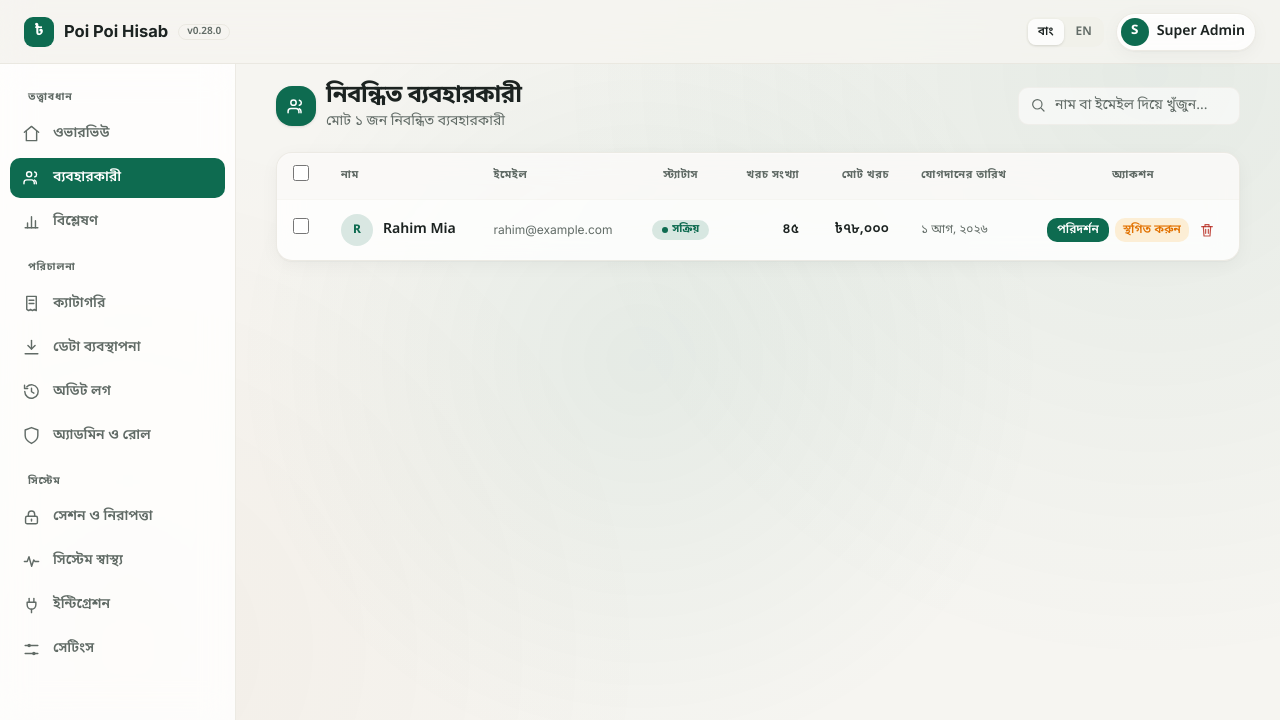
/admin/users › permanently deletes a user behind a confirmation
The image size is (1280, 720).
Check: the link "Rahim Mia" is shown, box x1=383 y1=220 x2=456 y2=240
Click the button named "মুছুন — Rahim Mia": click(1207, 230) x1=1195 y1=218 x2=1219 y2=242
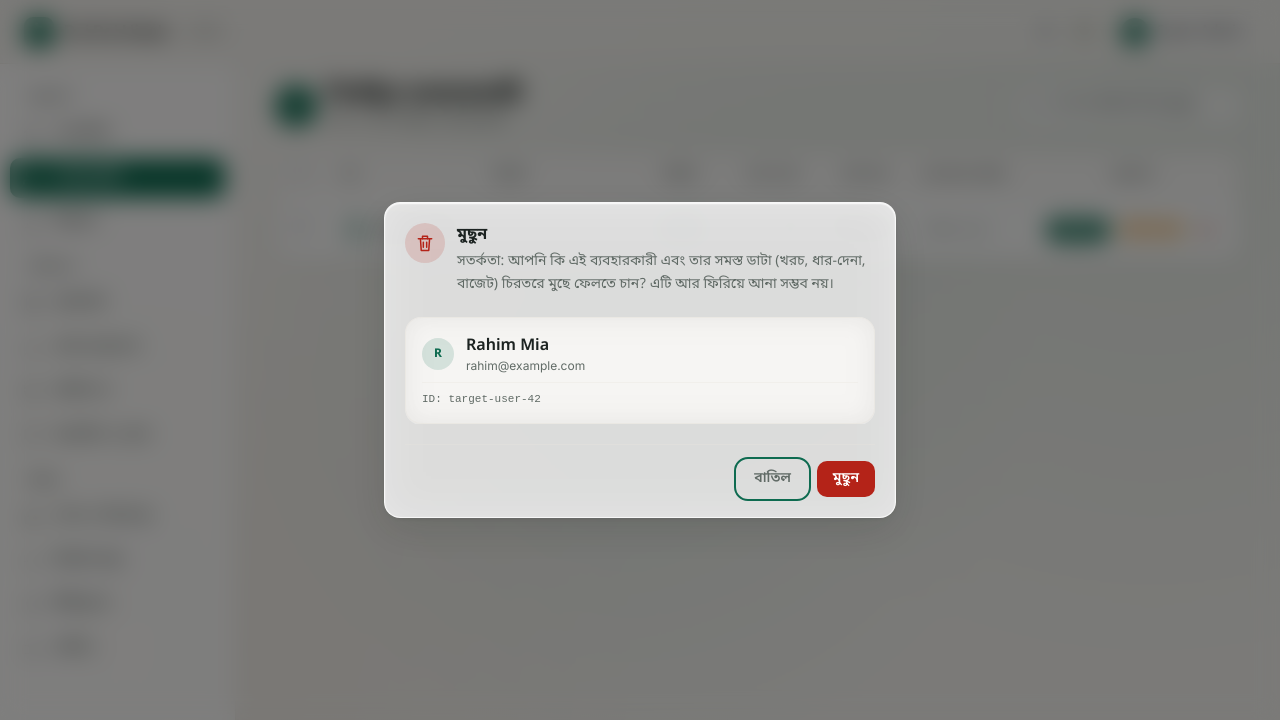
Check: the text "সতর্কতা: আপনি কি এই ব্যবহারকারী এবং তার সমস্ত ডাটা (খরচ, ধার-দেনা, বাজেট) চিরতরে মুছে ফেলতে চান? এটি আর ফিরিয়ে আনা সম্ভ" is shown, box x1=457 y1=252 x2=866 y2=294
Click the button "মুছুন": click(846, 479) x1=817 y1=461 x2=875 y2=497
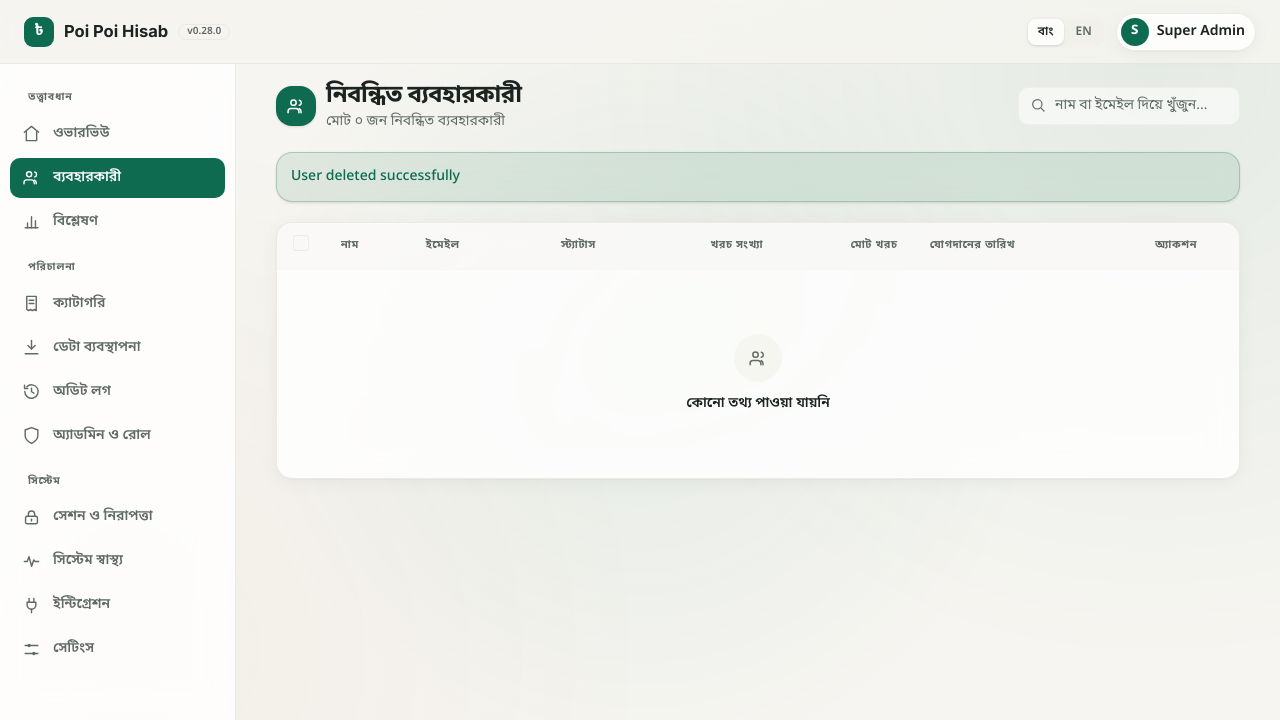
Check: the link "Rahim Mia" is gone
